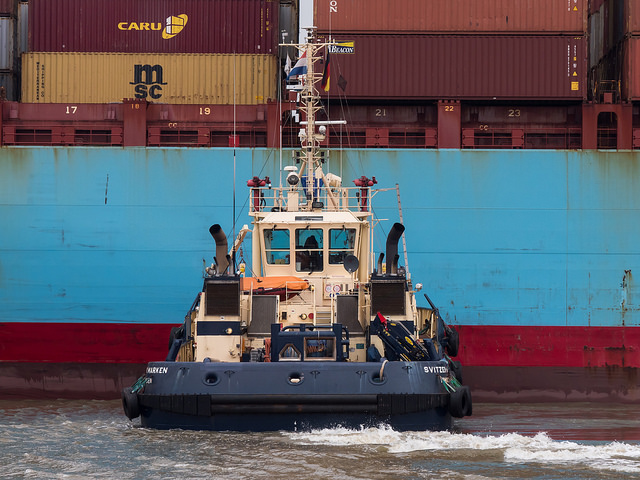tug_boat: (116, 88, 483, 443)
